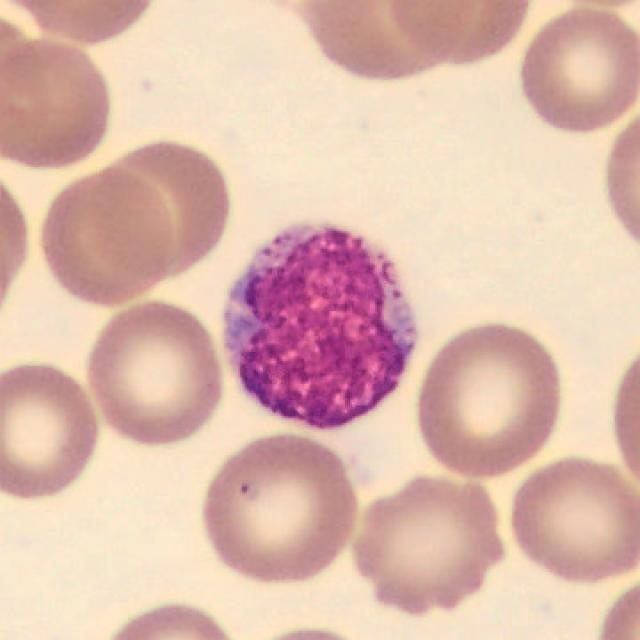Monocito: (226, 228, 412, 427)
